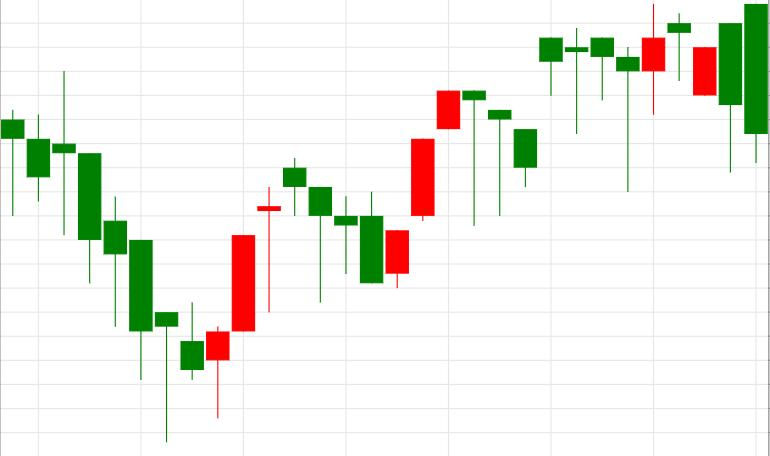inverse_hammer_rise: (1, 71, 204, 442)
three_white_soldiers_rise: (283, 90, 461, 302)
